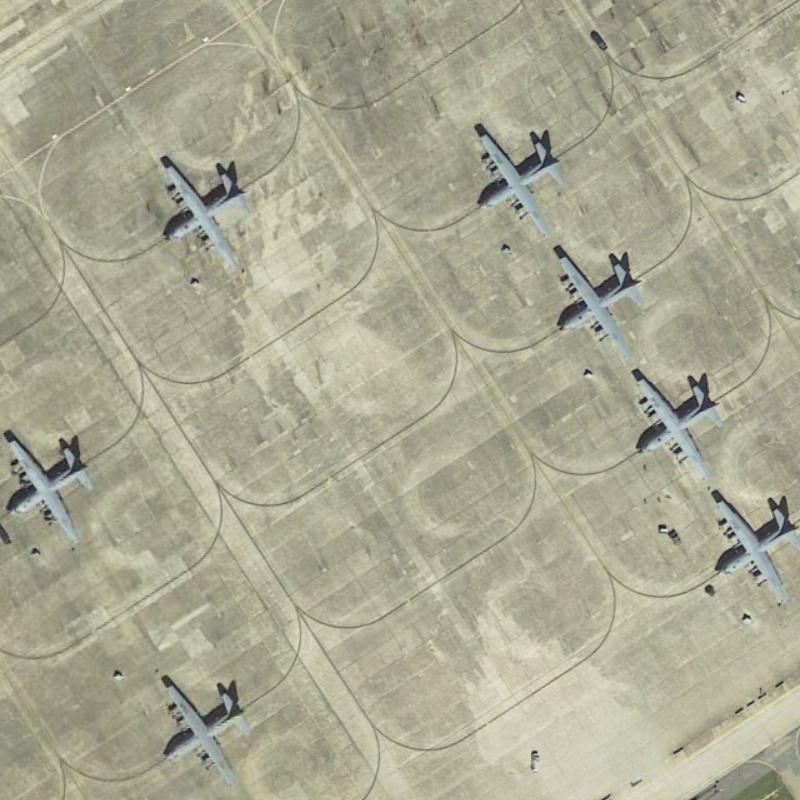A2: (472, 125, 567, 243), (552, 251, 648, 363), (4, 433, 96, 549), (631, 373, 725, 485), (161, 677, 254, 786), (160, 158, 254, 263), (713, 495, 800, 606)
